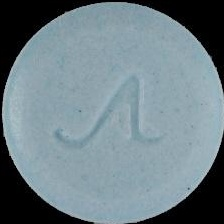68151-2014: (0, 0, 224, 224)
